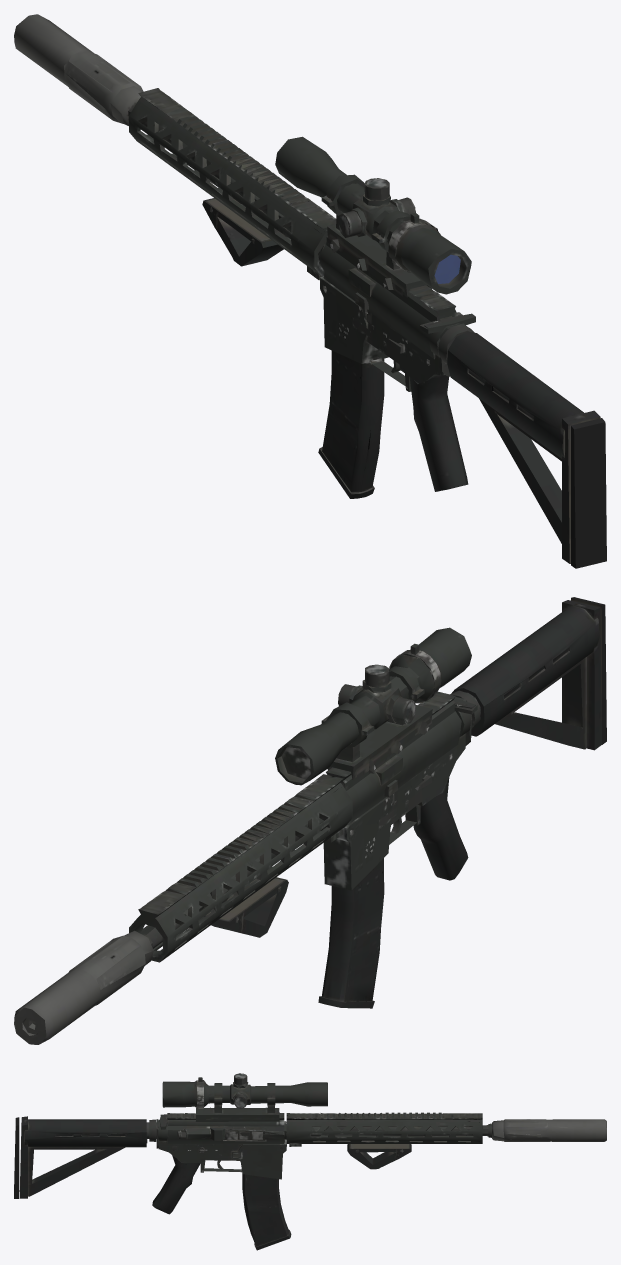
Rendered from fuzil_m4a1_luneta_leve.glb.
3 renders of one model, top to bottom at view 1: azimuth 30°, elevation 25°; view 2: azimuth 150°, elevation 25°; view 3: azimuth 270°, elevation 25°, orthographic. The views are drawn at different scales.
Visible parts, largest first — view 1: fuzil_m4a1_luneta_leve; view 2: fuzil_m4a1_luneta_leve; view 3: fuzil_m4a1_luneta_leve.
Boxes of the visible parts, <box> form: fuzil_m4a1_luneta_leve: <box>14,14,606,568</box>; fuzil_m4a1_luneta_leve: <box>14,597,606,1044</box>; fuzil_m4a1_luneta_leve: <box>14,1073,606,1250</box>.
Bounding box in the file's own units: 0.0697 × 0.3224 × 1.01.
1 material, 1 textured.
